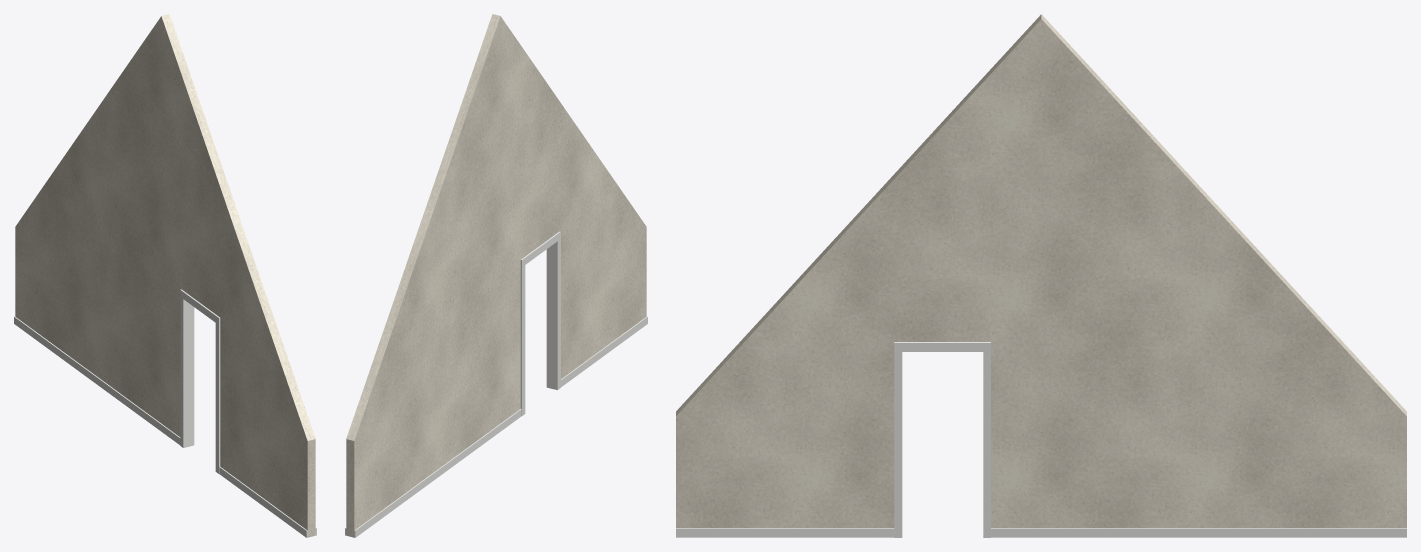
File: attic_partition_full.glb
3 views of the same model, side by side, from view 1: azimuth 30°, elevation 25°; view 2: azimuth 150°, elevation 25°; view 3: azimuth 270°, elevation 25° (orthographic). The views are drawn at different scales.
Visible parts, largest first — view 1: attic_partition_full_plaster, attic_partition_full_frame, attic_partition_full_trim; view 2: attic_partition_full_plaster, attic_partition_full_frame, attic_partition_full_trim; view 3: attic_partition_full_plaster, attic_partition_full_trim, attic_partition_full_frame.
Boxes of the visible parts, x1,y1,x2,y2 form: attic_partition_full_plaster: (15,14,315,537); attic_partition_full_frame: (180,289,220,473); attic_partition_full_trim: (14,316,316,537); attic_partition_full_plaster: (346,14,646,537); attic_partition_full_frame: (520,231,560,415); attic_partition_full_trim: (345,316,647,537); attic_partition_full_plaster: (676,14,1406,528); attic_partition_full_trim: (676,528,1406,537); attic_partition_full_frame: (894,342,990,537).
Size of the model in its own units: 0.16 by 5.79 by 7.4.
Materials: 3 (1 with a texture image).
